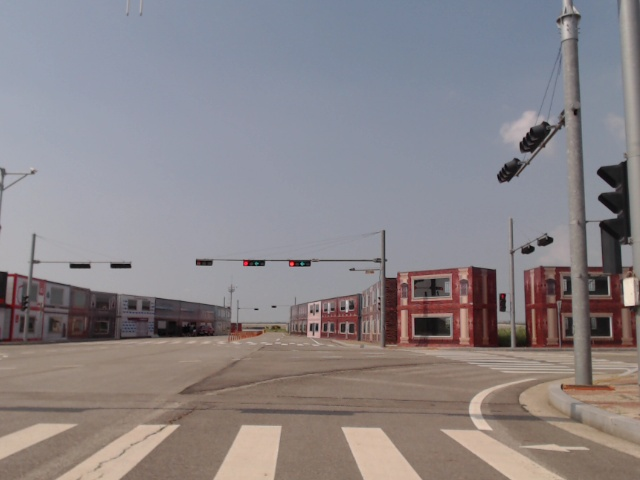left_green_4: (289, 260, 311, 267), (243, 260, 264, 267)
